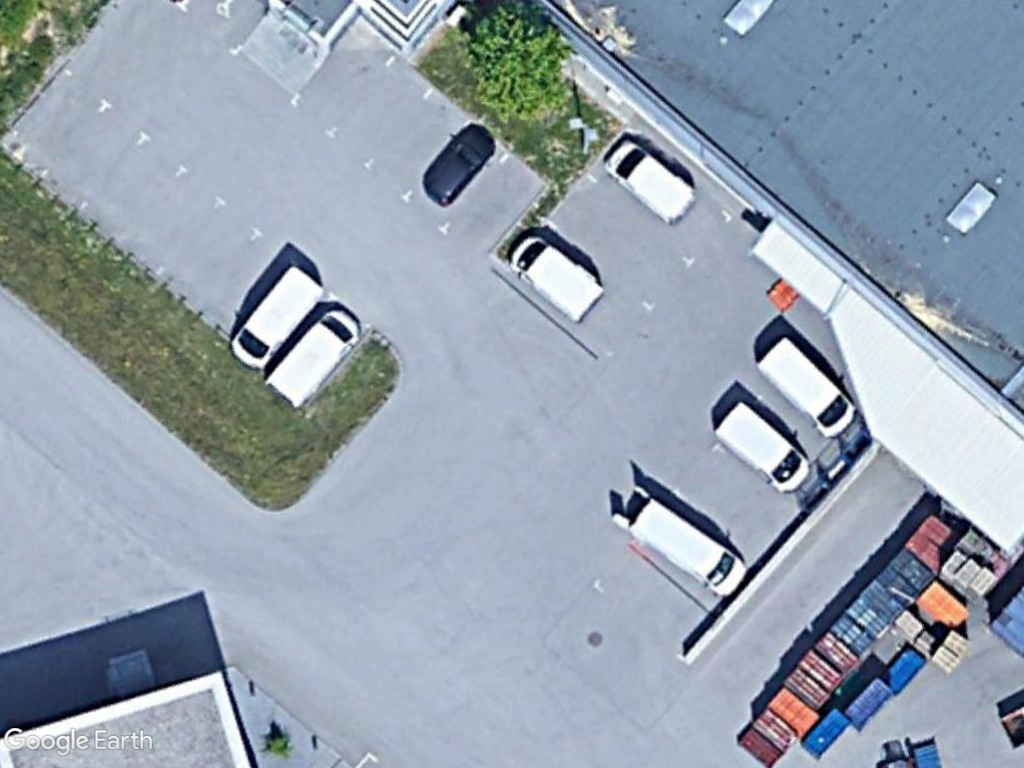car: (420, 121, 499, 207)
van: (625, 493, 748, 600), (752, 334, 862, 445), (227, 258, 328, 374), (264, 304, 366, 410), (712, 399, 812, 500), (508, 231, 611, 327), (603, 137, 700, 230)
